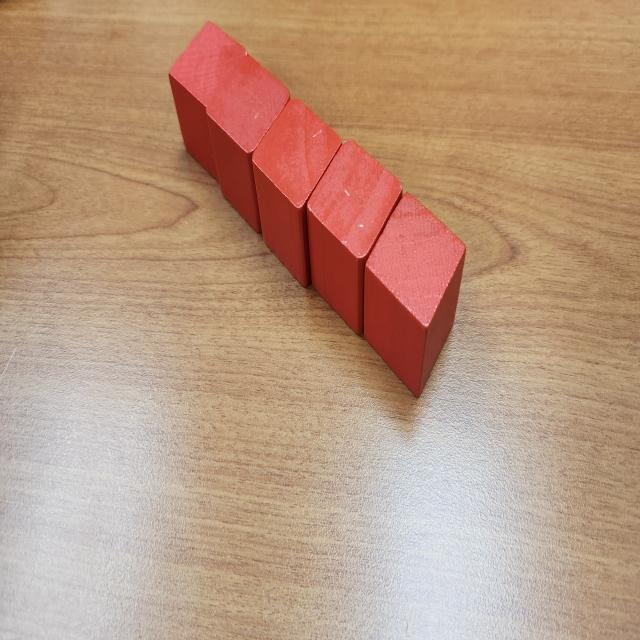red: (364, 191, 466, 397), (307, 140, 404, 339), (252, 98, 342, 288), (207, 54, 291, 236), (168, 20, 249, 182)
